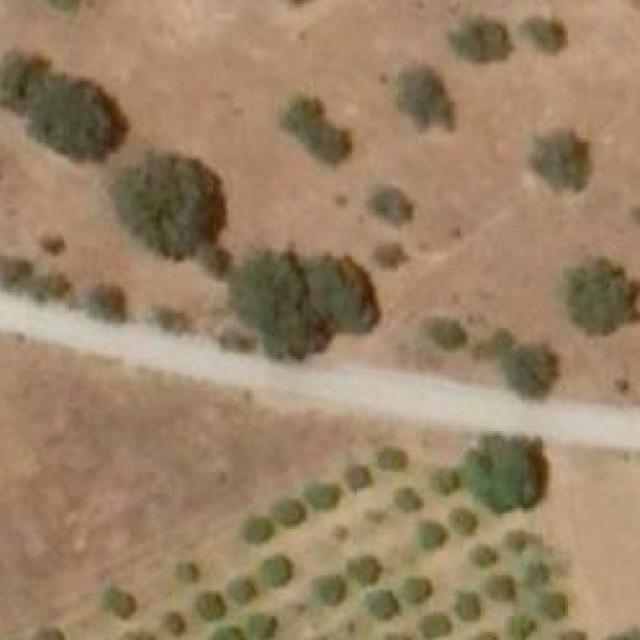Tree: (120, 154, 228, 256), (236, 246, 321, 357), (35, 82, 122, 156), (304, 251, 380, 331), (565, 260, 640, 336), (465, 434, 537, 506), (532, 130, 594, 200), (287, 96, 352, 162), (395, 66, 452, 125), (452, 17, 513, 64), (508, 339, 555, 395), (0, 51, 40, 116), (370, 184, 410, 226), (86, 282, 128, 321), (0, 251, 35, 295), (524, 18, 563, 52), (431, 318, 467, 349), (104, 588, 138, 620), (194, 590, 226, 622), (370, 588, 400, 620), (264, 554, 294, 586), (274, 498, 304, 529), (244, 512, 275, 542), (378, 238, 407, 270), (416, 520, 446, 550), (310, 482, 340, 512), (38, 272, 69, 300), (470, 541, 499, 570), (398, 488, 427, 516), (529, 563, 560, 588), (208, 251, 237, 277), (318, 578, 347, 604), (488, 575, 513, 604), (542, 594, 571, 619), (346, 465, 376, 489), (454, 503, 477, 532), (455, 596, 480, 621), (251, 614, 275, 640), (434, 470, 463, 491), (380, 450, 410, 470), (354, 555, 378, 580), (231, 578, 256, 602), (408, 575, 431, 601), (177, 560, 203, 583), (164, 611, 187, 637), (508, 529, 532, 552), (508, 616, 534, 637), (421, 614, 446, 635), (33, 626, 69, 640), (43, 231, 64, 254), (212, 626, 246, 640), (606, 628, 640, 640), (388, 629, 419, 640), (475, 626, 498, 640), (565, 629, 589, 640), (128, 632, 156, 640)
